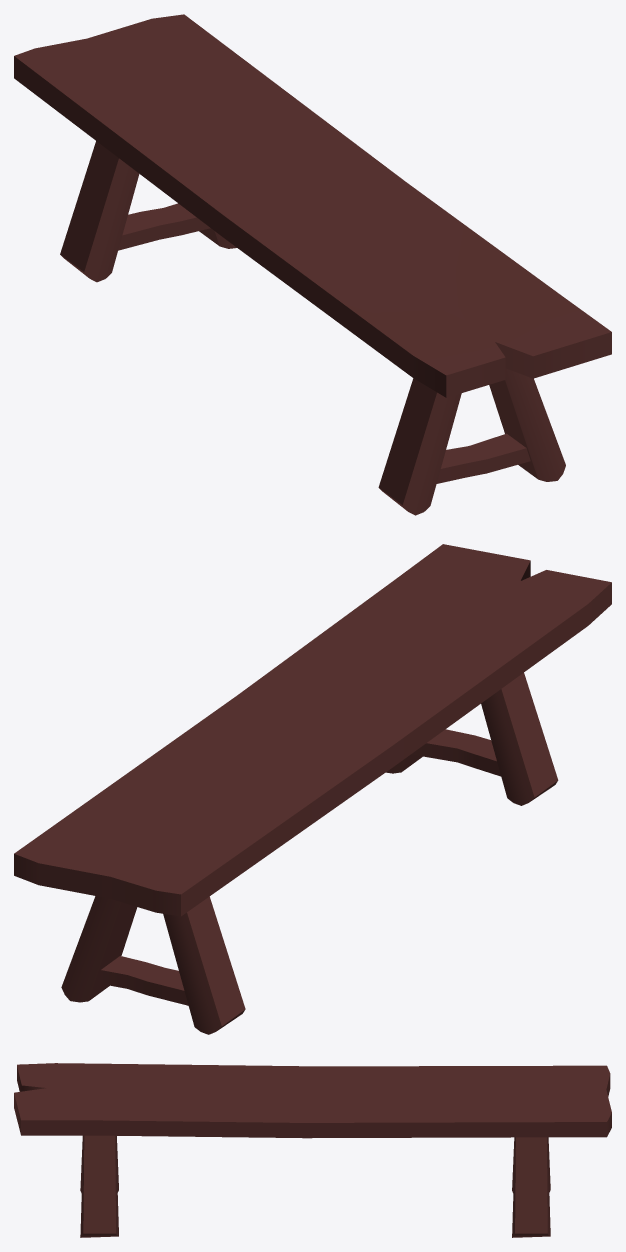
The model's file is banc.fbx.
3 views of the same model, one above another, from view 1: azimuth 30°, elevation 25°; view 2: azimuth 150°, elevation 25°; view 3: azimuth 270°, elevation 25° (orthographic). The views are drawn at different scales.
Visible parts, largest first — view 1: banc; view 2: banc; view 3: banc.
Part boxes in pixels (bbox=[...]): banc: bbox=[14, 14, 611, 515]; banc: bbox=[14, 544, 611, 1034]; banc: bbox=[14, 1063, 611, 1237].
Bounding box in the file's own units: 14.7 × 14.08 × 63.12.
